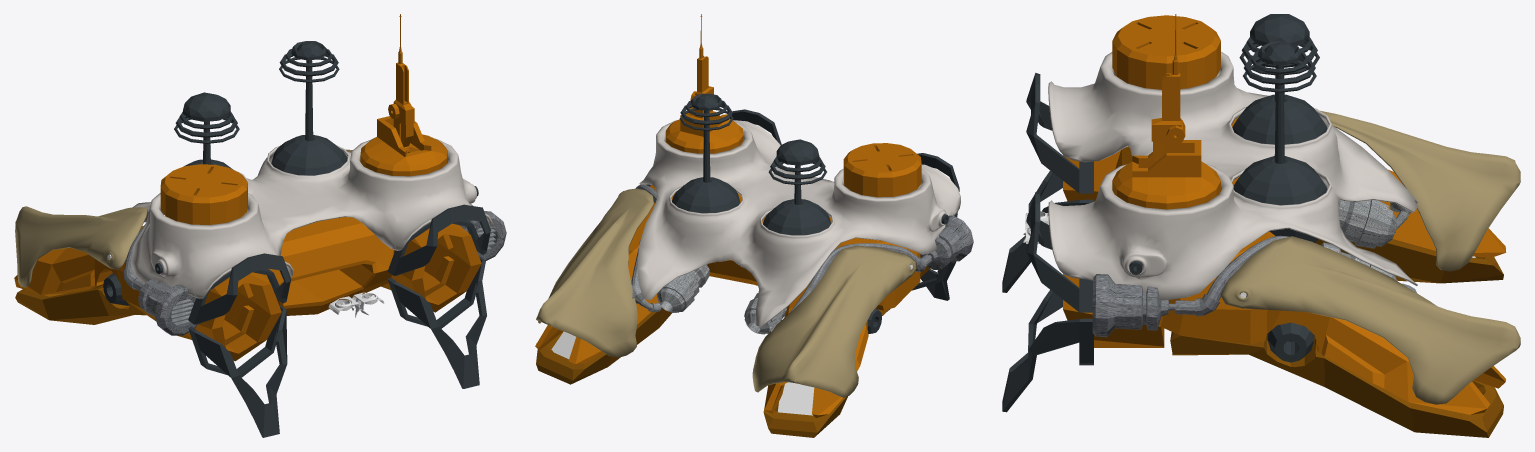
Rendered from headquater.glb.
3 renders of one model, left to right at view 1: azimuth 30°, elevation 25°; view 2: azimuth 150°, elevation 25°; view 3: azimuth 270°, elevation 25°, orthographic. The views are drawn at different scales.
Visible parts, largest first — view 1: Cylinder.005, Cylinder.001, Cylinder.022, Cylinder.029, Cylinder.002, Cylinder.023, Cylinder.028, Cylinder.024, Cylinder.025; view 2: Cylinder.005, Cylinder.023, Cylinder.002, Cylinder.029, Cylinder.028, Cylinder.001, Cylinder.024, Cylinder.022, Cube.005; view 3: Cylinder.005, Cylinder.023, Cylinder.001, Cylinder.029, Cylinder.002, Cylinder.024, Cylinder.022, Cylinder.028, Cylinder.025.
Part boxes in pixels (x1,y1,x2,y2): Cylinder.005: [131, 138, 492, 298]; Cylinder.001: [14, 214, 481, 361]; Cylinder.022: [188, 204, 490, 437]; Cylinder.029: [160, 14, 447, 224]; Cylinder.002: [174, 41, 347, 175]; Cylinder.023: [15, 149, 352, 287]; Cylinder.028: [122, 204, 506, 335]; Cylinder.024: [15, 284, 390, 339]; Cylinder.025: [103, 273, 129, 305]; Cylinder.005: [637, 120, 960, 327]; Cylinder.023: [536, 188, 917, 397]; Cylinder.002: [672, 93, 831, 235]; Cylinder.029: [665, 14, 921, 197]; Cylinder.028: [631, 184, 973, 334]; Cylinder.001: [535, 185, 929, 417]; Cylinder.024: [536, 308, 889, 437]; Cylinder.022: [729, 109, 959, 300]; Cube.005: [551, 331, 814, 415]; Cylinder.005: [1048, 51, 1417, 300]; Cylinder.023: [1220, 110, 1520, 404]; Cylinder.001: [1063, 117, 1506, 414]; Cylinder.029: [1112, 14, 1220, 209]; Cylinder.002: [1232, 14, 1327, 242]; Cylinder.024: [1170, 239, 1503, 437]; Cylinder.022: [1002, 72, 1093, 412]; Cylinder.028: [1092, 189, 1417, 337]; Cylinder.025: [1267, 322, 1314, 362].
Size of the model in its own units: 50.18 by 44.74 by 52.8.
Materials: 6 (1 with a texture image).
